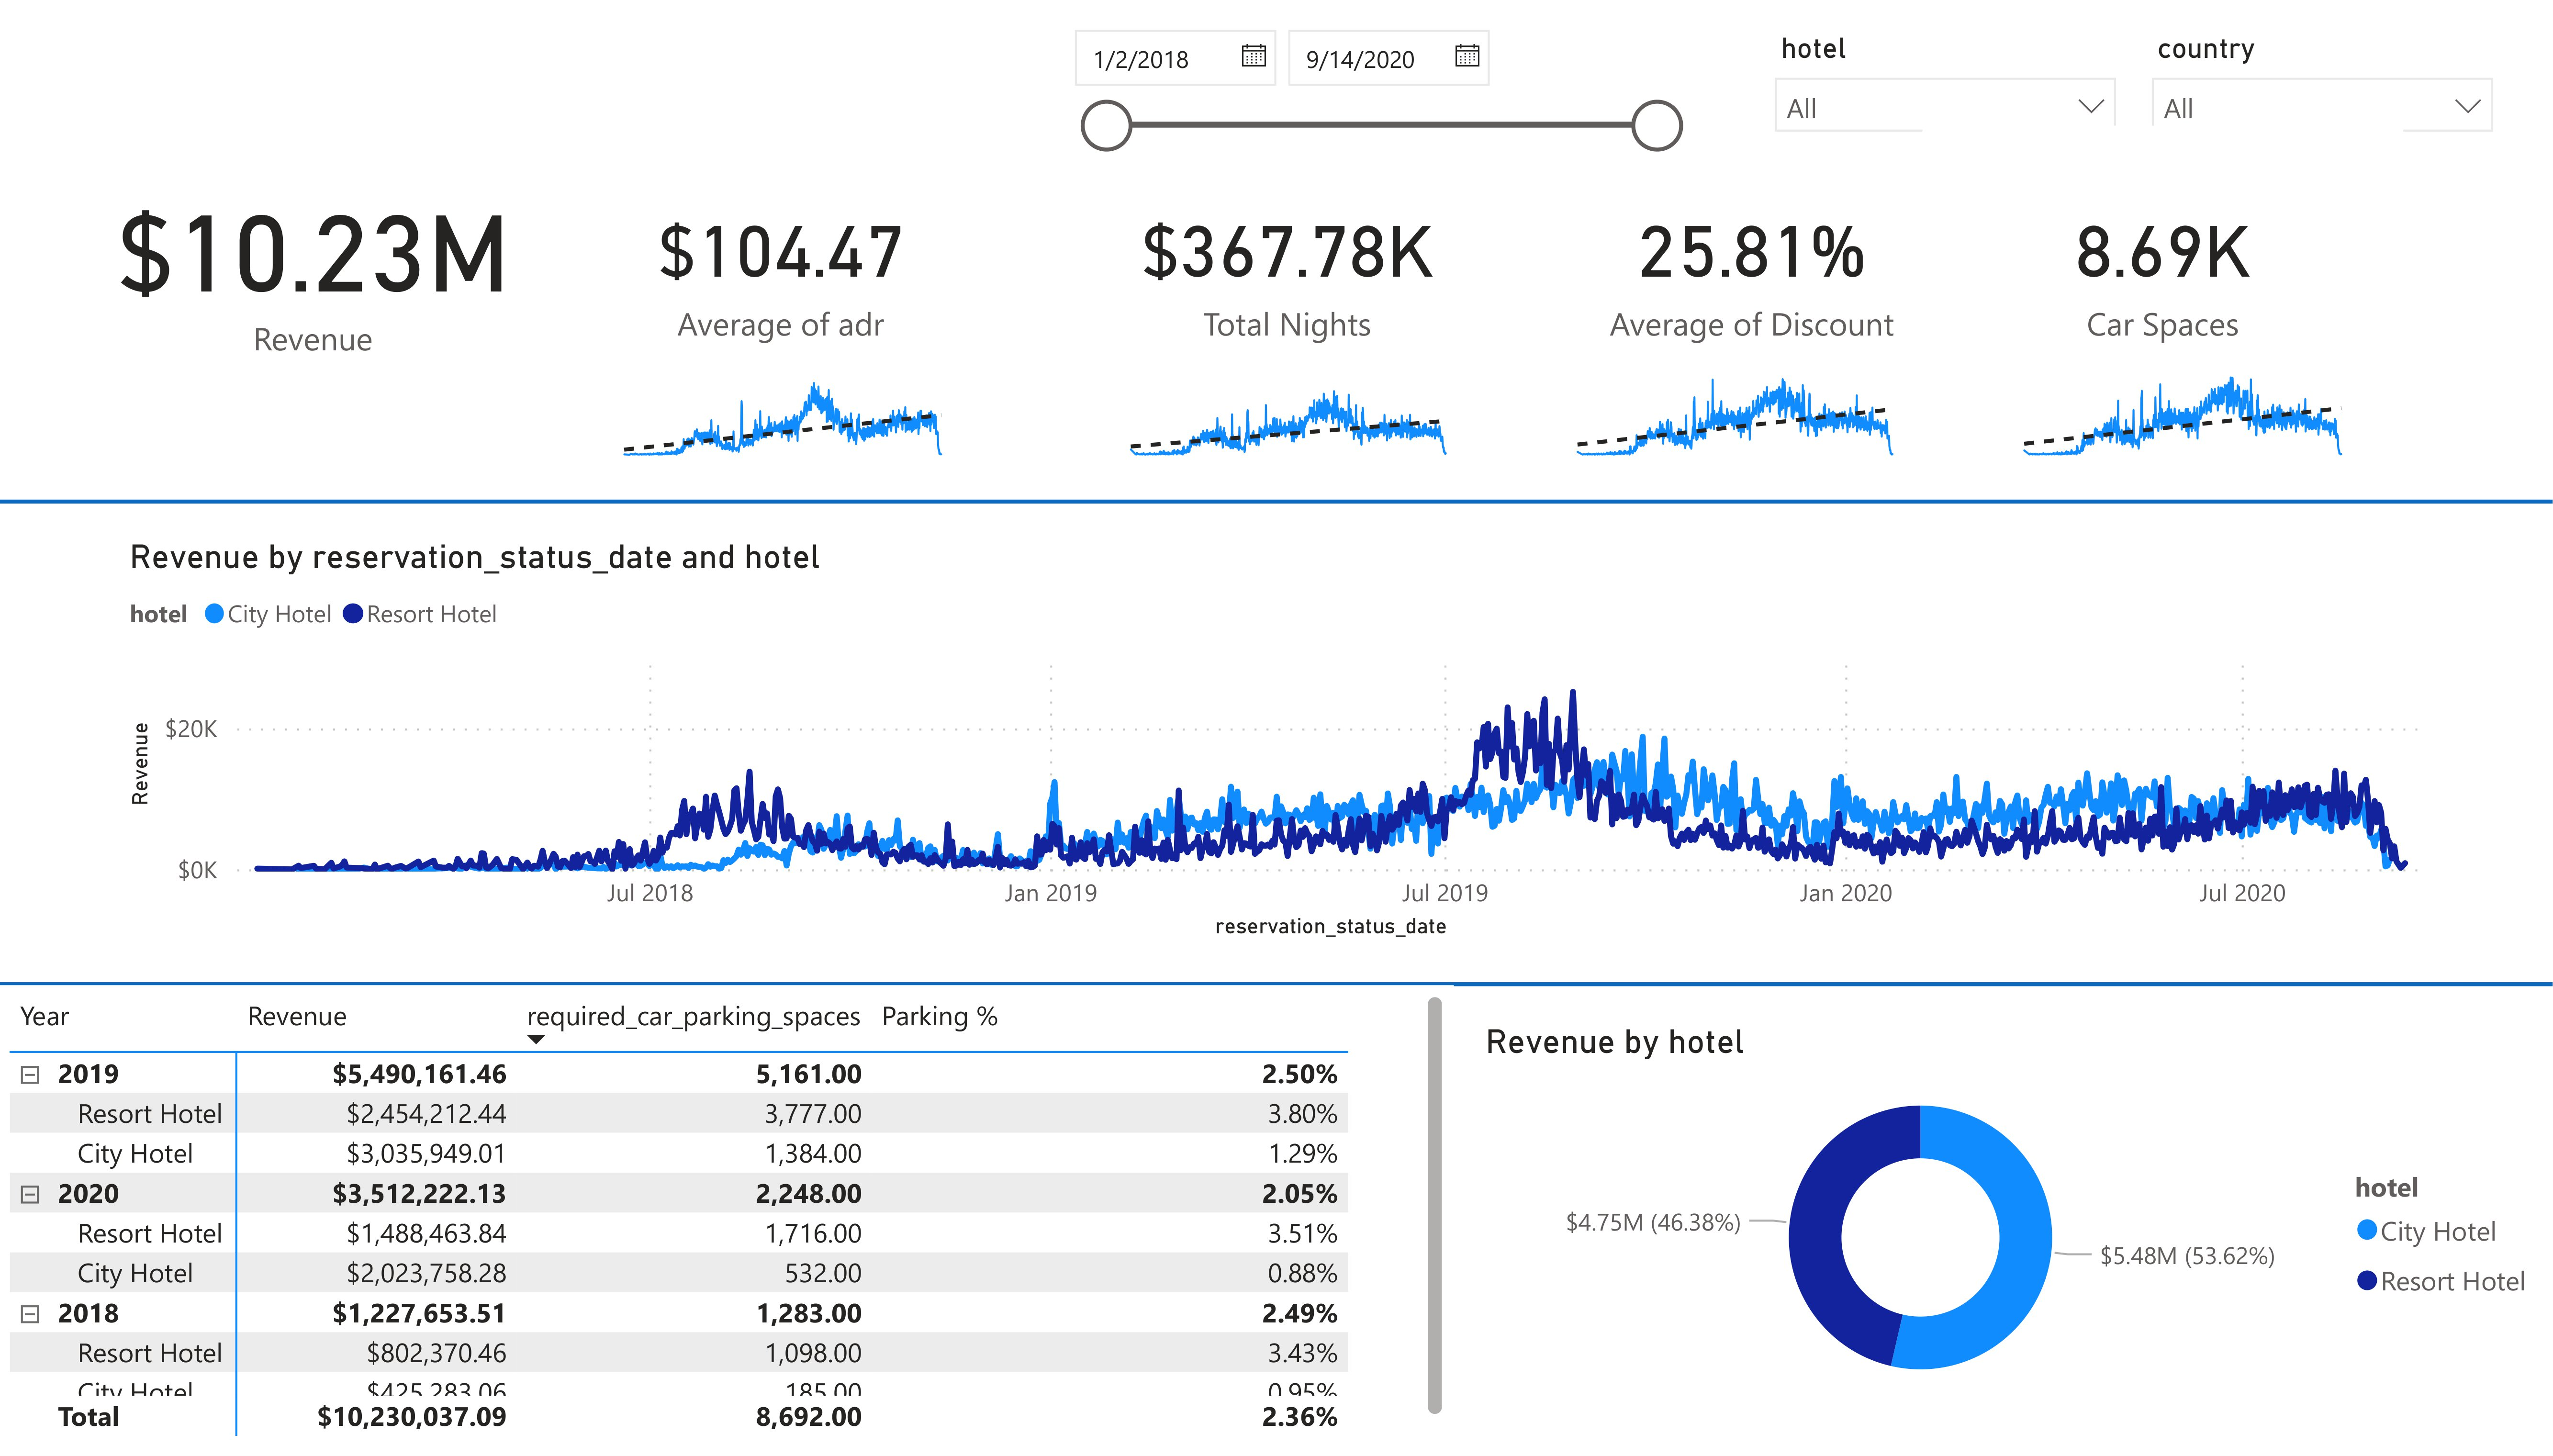

What the dashboard file says about the page in this screenshot:
{"tool":"powerbi","page":{"name":"Page 1","canvas":[1280,720],"ordinal":0},"visuals":[{"type":"shape","box":[0,228.7,1280.5,35.3],"z":0},{"type":"shape","box":[0,470,1280,37.1],"z":1000},{"type":"card","fields":{"Values":["Sum(Query1.Revenue)"]},"box":[15.5,39.5,282.4,172.2],"z":2000},{"type":"card","fields":{"Values":["Avg(Query1.adr)"]},"box":[271.1,57.9,241.4,141.2],"z":3000},{"type":"card","fields":{"Values":["Query1.Total Nights"]},"box":[525.2,57.9,241.4,141.2],"z":4000},{"type":"card","fields":{"Values":["Avg(Query1.Discount)"]},"box":[758.1,57.9,241.4,141.2],"z":5000},{"type":"lineChart","fields":{"Y":["Sum(Query1.Revenue)"],"Category":["Query1.reservation_status_date"],"Series":["Query1.hotel"]},"box":[60,264.3,1172.9,205.7],"z":6000},{"type":"slicer","fields":{"Values":["Query1.country"]},"box":[1068.6,5.7,191.4,67.1],"z":7000},{"type":"slicer","fields":{"Values":["Query1.hotel"]},"box":[880,5.7,191.4,67.1],"z":8000},{"type":"lineChart","fields":{"Y":["Sum(Query1.adr)"],"Category":["Query1.reservation_status_date"]},"box":[297.9,168,189.2,60.7],"z":9000},{"type":"lineChart","fields":{"Y":["Query1.Total Nights"],"Category":["Query1.reservation_status_date"]},"box":[552,168,187.8,60.7],"z":10000},{"type":"lineChart","fields":{"Y":["Sum(Query1.Discount)"],"Category":["Query1.reservation_status_date"]},"box":[776.5,168,187.8,60.7],"z":11000},{"type":"card","fields":{"Values":["Sum(Query1.required_car_parking_spaces)"]},"box":[964.2,57.9,241.4,141.2],"z":12000},{"type":"lineChart","fields":{"Y":["CountNonNull(Query1.reservation_status_date)"],"Category":["Query1.reservation_status_date"]},"box":[999.5,168,189.2,60.7],"z":13000},{"type":"donutChart","fields":{"Category":["Query1.hotel"],"Y":["Sum(Query1.Revenue)"]},"box":[739.8,506.8,540.7,197.6],"z":14000},{"type":"pivotTable","fields":{"Rows":["Query1.reservation_status_date.Variation.Date Hierarchy.Year","Query1.hotel"],"Values":["Sum(Query1.Revenue)","Sum(Query1.required_car_parking_spaces)","Query1.Parking %"]},"box":[0,488.6,728.6,231.4],"z":15000},{"type":"slicer","fields":{"Values":["Query1.reservation_status_date"]},"box":[525.7,0,325.7,72.9],"z":16000}]}

Visuals, with their boxes in screenshot pixels (x1, y1, x2, y2), scaled from the page's 1280x720 canvas onto the 2553x1456 screenshot:
shape: <bbox>0, 462, 2553, 534</bbox>
shape: <bbox>0, 951, 2553, 1025</bbox>
card - Sum(Query1.Revenue): <bbox>31, 80, 594, 428</bbox>
card - Avg(Query1.adr): <bbox>541, 117, 1022, 403</bbox>
card - Query1.Total Nights: <bbox>1048, 117, 1529, 403</bbox>
card - Avg(Query1.Discount): <bbox>1512, 117, 1993, 403</bbox>
lineChart - Sum(Query1.Revenue) x Query1.reservation_status_date: <bbox>120, 535, 2459, 951</bbox>
slicer - Query1.country: <bbox>2131, 11, 2513, 147</bbox>
slicer - Query1.hotel: <bbox>1755, 11, 2137, 147</bbox>
lineChart - Sum(Query1.adr) x Query1.reservation_status_date: <bbox>594, 340, 972, 462</bbox>
lineChart - Query1.Total Nights x Query1.reservation_status_date: <bbox>1101, 340, 1476, 462</bbox>
lineChart - Sum(Query1.Discount) x Query1.reservation_status_date: <bbox>1549, 340, 1923, 462</bbox>
card - Sum(Query1.required_car_parking_spaces): <bbox>1923, 117, 2405, 403</bbox>
lineChart - CountNonNull(Query1.reservation_status_date) x Query1.reservation_status_date: <bbox>1993, 340, 2371, 462</bbox>
donutChart - Query1.hotel x Sum(Query1.Revenue): <bbox>1476, 1025, 2553, 1424</bbox>
pivotTable - Query1.reservation_status_date.Variation.Date Hierarchy.Year x Query1.hotel: <bbox>0, 988, 1453, 1456</bbox>
slicer - Query1.reservation_status_date: <bbox>1049, 0, 1698, 147</bbox>
